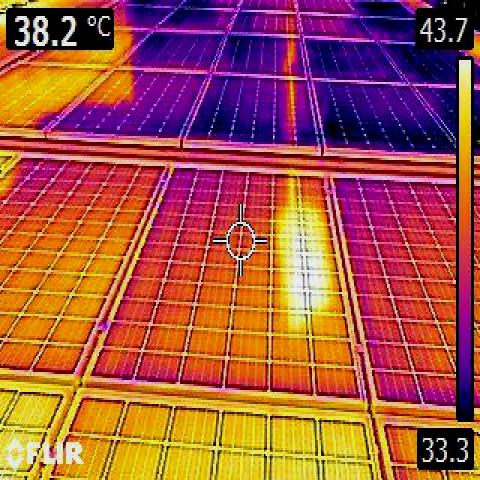fault: (280, 214, 327, 321)
